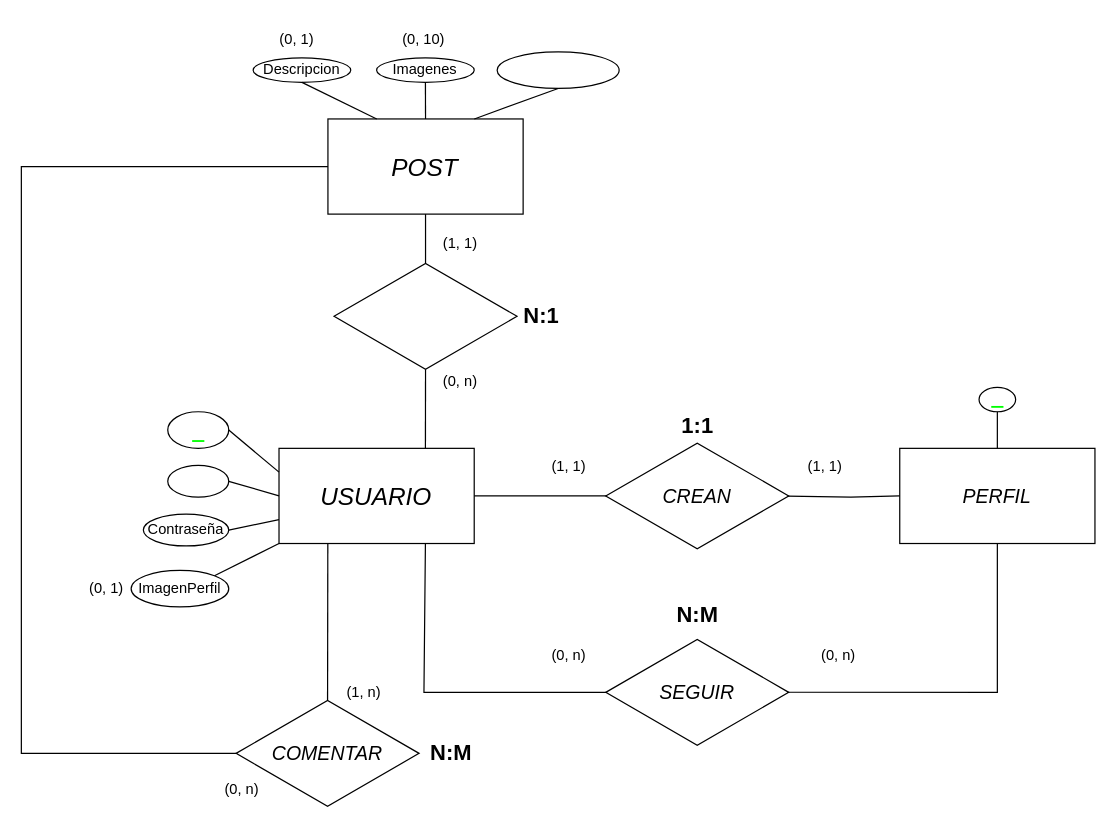
The diagram is 1116 pixels wide and 830 high, and some of its shapes have lost their labels. Here are the shapes that lost their labels. From the top down, the centre of each, then its label:
At (557,69): "FechaCreacion".
At (425,315): "SUBIR".
At (997,399): "ID".
At (198,429): "Name".
At (198,480): "Correo".
